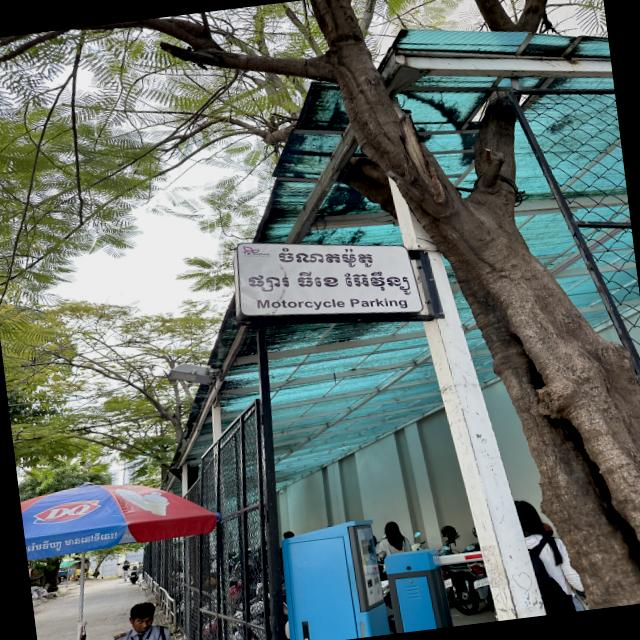2: (241, 270, 414, 297)
Yolov11kh: (272, 246, 380, 269)
